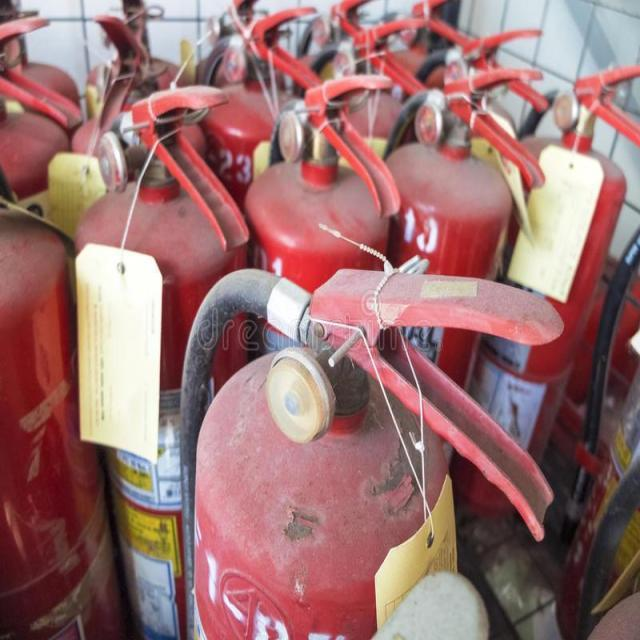fire_extinguisher: (166, 254, 576, 639), (306, 61, 543, 639), (61, 75, 272, 640), (230, 62, 404, 639), (432, 45, 636, 519), (0, 117, 143, 639)
